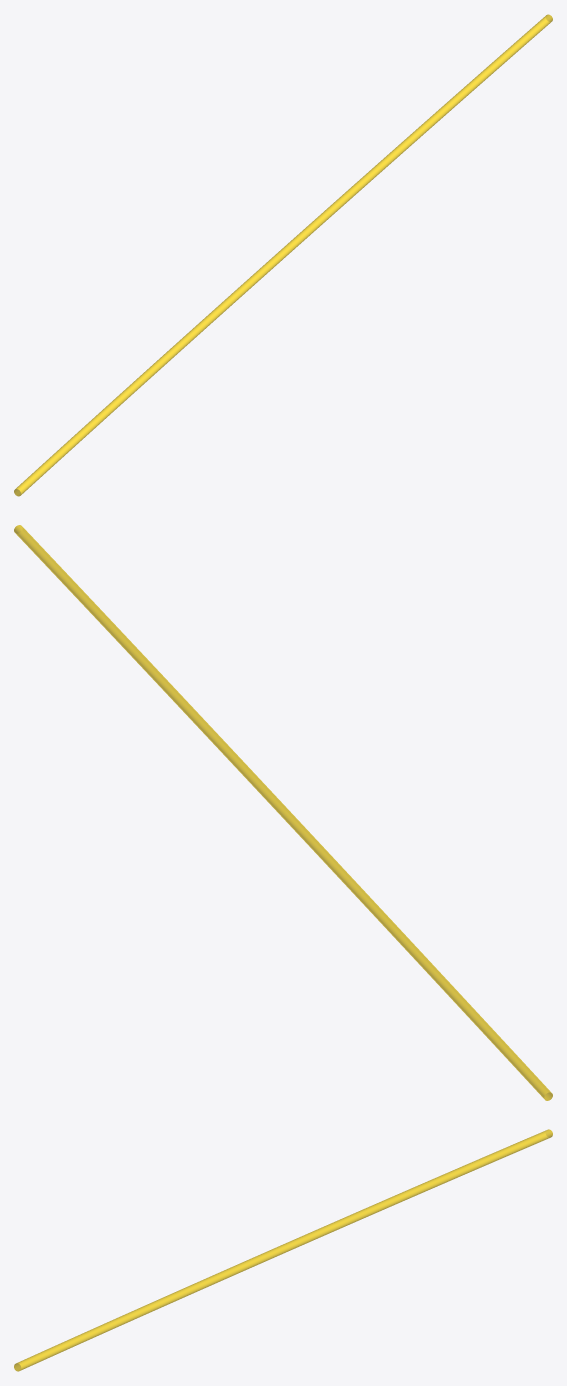
File: Event_15818458_track_18.fbx
The picture shows the model from 3 angles, top to bottom: view 1: azimuth 90°, elevation 25°; view 2: azimuth 150°, elevation 25°; view 3: azimuth 270°, elevation 25°; orthographic projection. The views are drawn at different scales.
Parts seen in each view (by area): view 1: Model; view 2: Model; view 3: Model.
Part boxes in pixels (x1,y1,x2,y2): Model: [14, 14, 552, 496]; Model: [14, 525, 552, 1100]; Model: [14, 1129, 552, 1371].
Size of the model in its own units: 3.93 by 0.6597 by 2.52.
